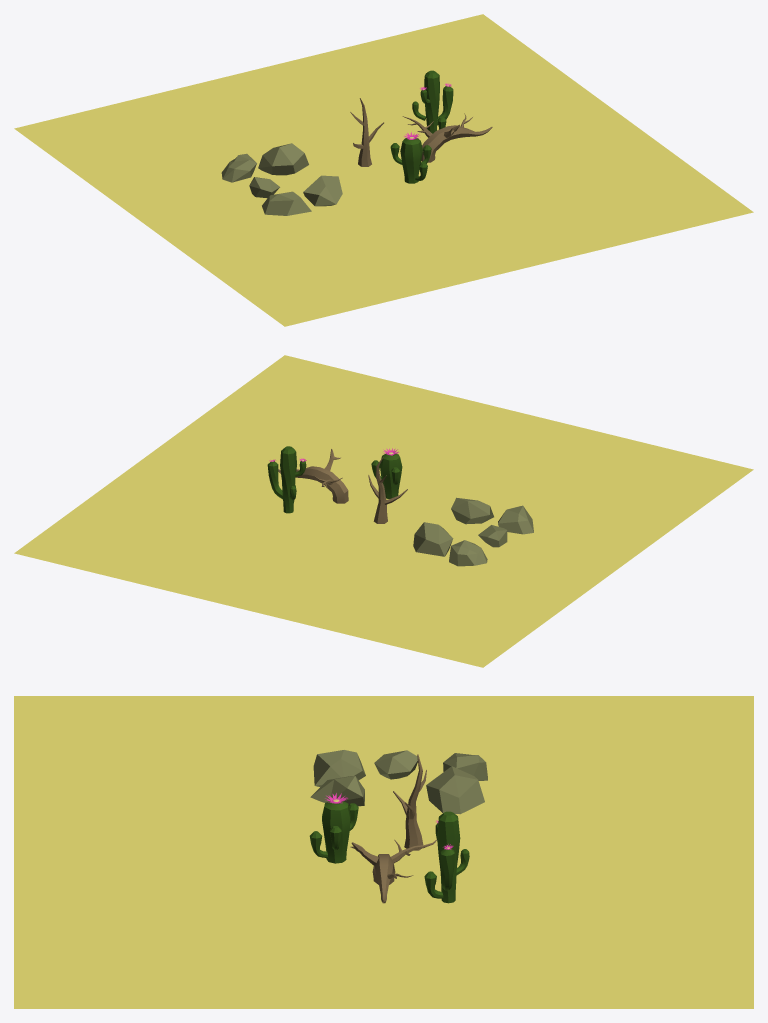
The model's file is Desert.glb.
The picture shows the model from 3 angles, top to bottom: view 1: azimuth 30°, elevation 25°; view 2: azimuth 150°, elevation 25°; view 3: azimuth 270°, elevation 25°; orthographic projection. The views are drawn at different scales.
Visible parts, largest first — view 1: Plane, Cactus2, Cactus1, Stone1, DeadTree1, Stone2, Stone3, Stone5, DeadTree2; view 2: Plane, Cactus2, Stone1, DeadTree1, Cactus1, Stone2, Stone5, Stone3, DeadTree2; view 3: Plane, Cactus2, Cactus1, Stone1, Stone3, DeadTree1, Stone2, DeadTree2, Stone4, Stone5.
Boxes of the visible parts, x1,y1,x2,y2 form: Plane: (14,14,753,326); Cactus2: (412,70,453,133); Cactus1: (390,132,431,183); Stone1: (258,143,308,175); DeadTree1: (402,113,492,162); Stone2: (303,175,342,206); Stone3: (262,191,311,215); Stone5: (221,153,256,182); DeadTree2: (350,98,383,166); Plane: (14,355,753,667); Cactus2: (267,446,306,513); Stone1: (413,522,453,556); DeadTree1: (278,449,348,503); Cactus1: (371,448,402,498); Stone2: (451,497,493,524); Stone5: (449,540,487,566); Stone3: (498,505,533,534); DeadTree2: (368,457,407,523); Plane: (14,696,753,1008); Cactus2: (424,811,469,903); Cactus1: (309,793,358,863); Stone1: (426,766,484,814); Stone3: (313,750,365,786); DeadTree1: (350,839,436,903); Stone2: (310,775,364,806); DeadTree2: (393,754,426,850); Stone4: (374,750,417,779); Stone5: (443,753,487,780).
Size of the model in its own units: 43.28 by 6.15 by 43.28.
